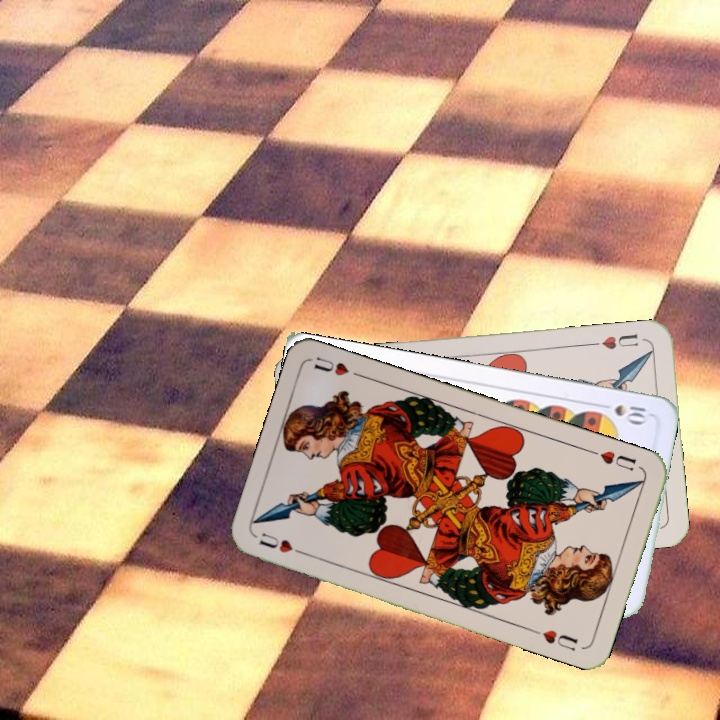HU: (255, 528, 310, 558), (586, 446, 639, 474), (588, 329, 641, 352)
S10: (594, 399, 650, 427)
